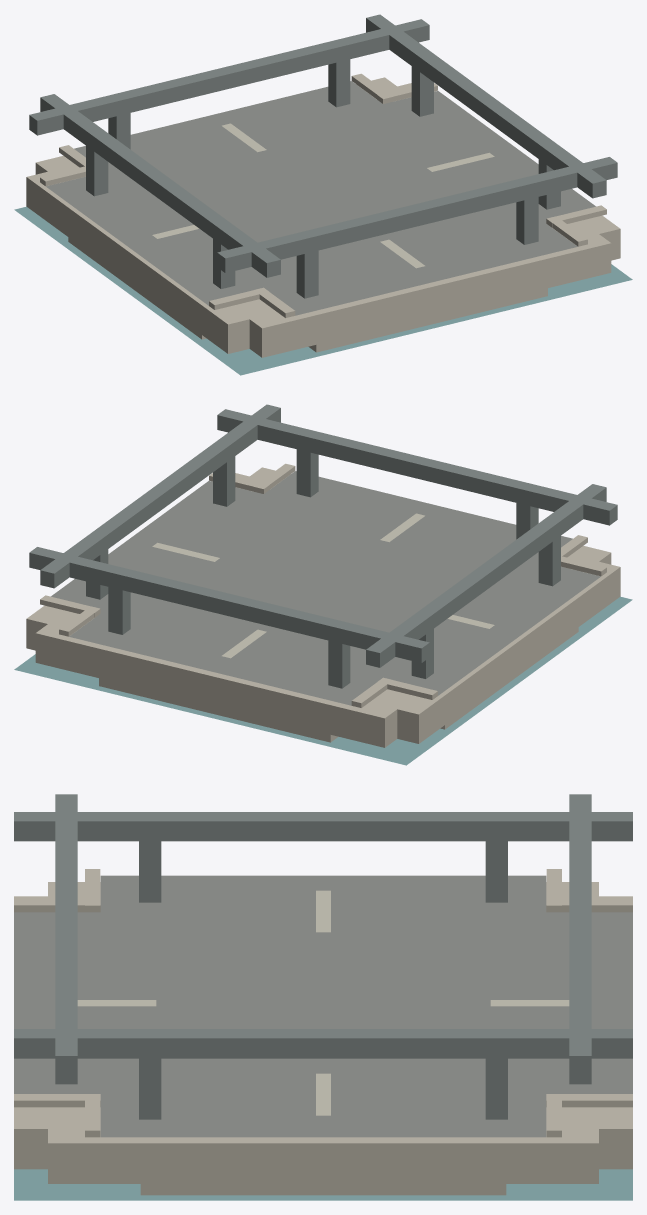
3 views of the same model, one above another, from view 1: azimuth 30°, elevation 25°; view 2: azimuth 150°, elevation 25°; view 3: azimuth 270°, elevation 25° (orthographic). The views are drawn at different scales.
Parts seen in each view (by area): view 1: Near; view 2: Near; view 3: Near.
Part boxes in pixels (left/top/right/bottom): Near: left=14, top=14, right=632, bottom=375; Near: left=14, top=404, right=632, bottom=765; Near: left=14, top=794, right=632, bottom=1200.
Bounding box in the file's own units: 1 × 0.258 × 1.
